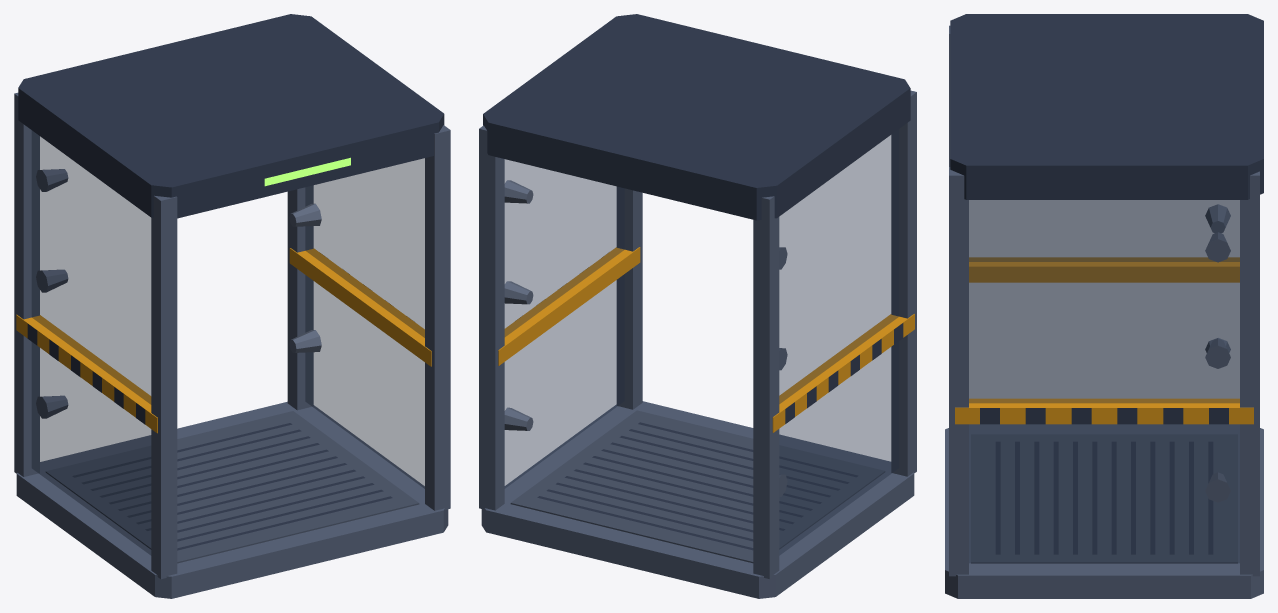
File: lab_decon_shower.glb
3 renders of one model, left to right at view 1: azimuth 30°, elevation 25°; view 2: azimuth 150°, elevation 25°; view 3: azimuth 270°, elevation 25°, orthographic. The views are drawn at different scales.
Visible parts, largest first — view 1: splash_guard, band_mark, channel, grated_drain, warning_rail, spray_nozzle, ready; view 2: splash_guard, band_mark, channel, grated_drain, warning_rail, spray_nozzle; view 3: splash_guard, band_mark, channel, grated_drain, warning_rail, spray_nozzle.
Boxes of the visible parts, x1,y1,x2,y2 form: splash_guard: [32, 131, 424, 554]; band_mark: [18, 14, 444, 550]; channel: [14, 92, 450, 598]; grated_drain: [46, 411, 419, 563]; warning_rail: [16, 248, 431, 433]; spray_nozzle: [36, 169, 321, 418]; ready: [264, 157, 350, 186]; splash_guard: [505, 129, 898, 555]; band_mark: [483, 14, 910, 550]; channel: [479, 90, 916, 598]; grated_drain: [510, 410, 885, 563]; warning_rail: [498, 247, 914, 432]; spray_nozzle: [504, 180, 787, 496]; splash_guard: [969, 200, 1239, 562]; band_mark: [950, 14, 1263, 554]; channel: [945, 25, 1263, 598]; grated_drain: [971, 434, 1237, 563]; warning_rail: [955, 257, 1253, 424]; spray_nozzle: [1205, 204, 1230, 502].
Size of the model in its own units: 1.8 by 2.4 by 1.6.
